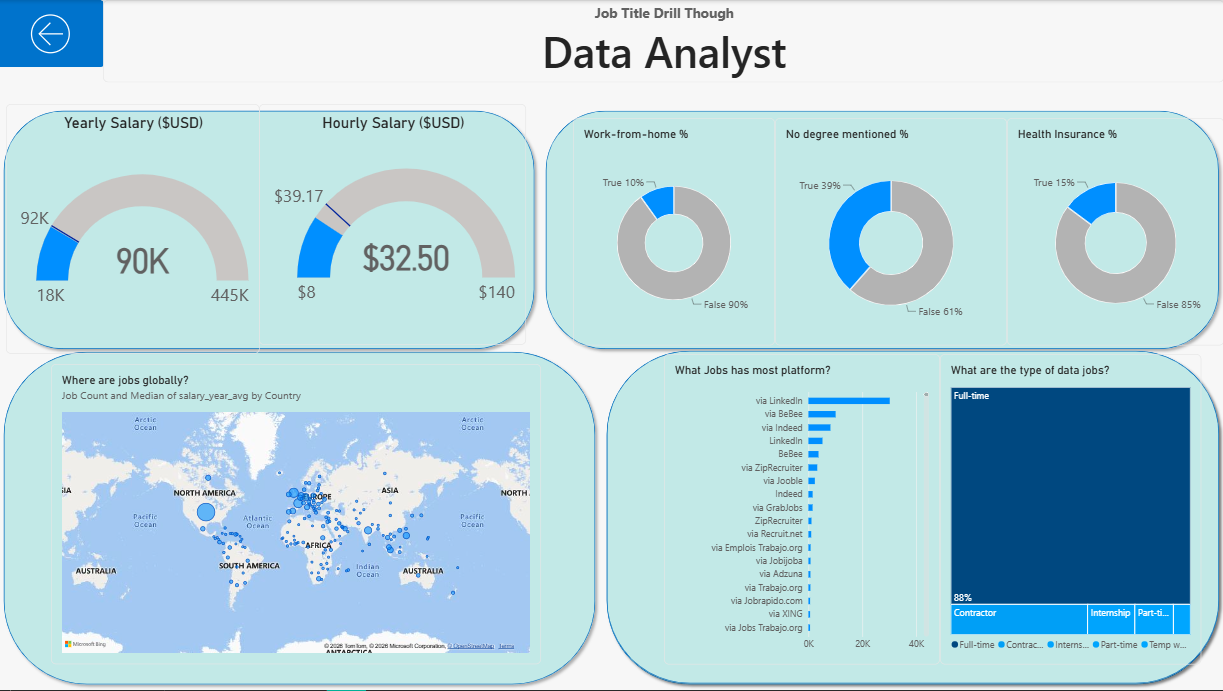

The dashboard page shown, as its layout file describes it:
{"tool":"powerbi","page":{"name":"Job Title Drill Through","canvas":[1920,1080],"ordinal":1},"visuals":[{"type":"group","id":"g1","title":"Background","box":[0,164.1,1920,915.4],"z":0},{"type":"cardVisual","fields":{"Data":["Min(job_postings_flat.job_title_short)1"]},"box":[165,0,1755,129.9],"z":1000},{"type":"actionButton","box":[0,0,165,105.3],"z":2000},{"type":"gauge","title":"Yearly Salary ($USD)","fields":{"MaxValue":["Max(job_postings_flat.salary_year_avg)2"],"MinValue":["Min(job_postings_flat.salary_year_avg)1"],"TargetValue":["Avg(job_postings_flat.salary_year_avg)3"],"Y":["Median(job_postings_flat.salary_year_avg)"]},"box":[12.3,163.2,396.6,391.4],"z":3000},{"type":"gauge","title":"Hourly Salary ($USD)","fields":{"MaxValue":["Max(job_postings_flat.salary_hour_avg)"],"MinValue":["Min(job_postings_flat.salary_hour_avg)"],"TargetValue":["Avg(job_postings_flat.salary_hour_avg)"],"Y":["Median(job_postings_flat.salary_hour_avg)"]},"box":[408.9,163.2,417.7,377.3],"z":4000},{"type":"donutChart","title":"Health Insurance %","fields":{"Category":["job_postings_flat.job_health_insurance"],"Y":["CountNonNull(job_postings_flat.job_work_from_home)"]},"box":[1579.5,184.3,340.5,356.3],"z":5000},{"type":"donutChart","title":"No degree mentioned %","fields":{"Category":["job_postings_flat.job_no_degree_mention"],"Y":["CountNonNull(job_postings_flat.job_work_from_home)"]},"box":[1216.2,184.3,363.3,356.3],"z":6000},{"type":"shape","box":[943.8,540.8,976.2,538.7],"z":7000},{"type":"donutChart","title":"Work-from-home %","fields":{"Category":["job_postings_flat.job_work_from_home"],"Y":["CountNonNull(job_postings_flat.job_work_from_home)"]},"box":[900.3,184.3,315.9,356.3],"z":8000},{"type":"map","title":"Where are jobs globally?","fields":{"Category":["job_postings_flat.job_country"],"Size":["CountNonNull(job_postings_flat.job_title_short)"]},"box":[82.5,570.4,766.9,470.3],"z":9000},{"type":"treemap","title":"What are the type of data jobs?","fields":{"Group":["job_postings_flat.job_schedule_type"],"Values":["CountNonNull(job_postings_flat.job_schedule_type)"]},"box":[1474.2,554.6,408.9,486.1],"z":10000},{"type":"barChart","title":"What Jobs has most platform?","fields":{"Category":["job_postings_flat.job_via"],"Y":["CountNonNull(job_postings_flat.job_via)"]},"box":[1042.5,554.6,431.7,486.1],"z":11000},{"type":"shape","box":[0,540.8,943.8,538.7],"z":12250,"group":"g1"},{"type":"shape","box":[0,164.1,848.6,390.9],"z":12500,"group":"g1"},{"type":"shape","box":[943.8,540.8,976.2,538.7],"z":13000,"group":"g1"},{"type":"shape","box":[848.6,164.1,1071.4,390.9],"z":14000,"group":"g1"}]}

Visuals, with their boxes in screenshot pixels (x1, y1, x2, y2), scaled from the page's 1920x1080 canvas onto the 1223x691 screenshot:
"Background" group: 0,105,1222,690
cardVisual - Min(job_postings_flat.job_title_short)1: 105,0,1222,83
actionButton: 0,0,105,67
"Yearly Salary ($USD)" gauge: 8,104,260,355
"Hourly Salary ($USD)" gauge: 260,104,527,346
"Health Insurance %" donutChart: 1006,118,1222,346
"No degree mentioned %" donutChart: 775,118,1006,346
shape: 601,346,1222,690
"Work-from-home %" donutChart: 573,118,775,346
"Where are jobs globally?" map: 53,365,541,666
"What are the type of data jobs?" treemap: 939,355,1199,666
"What Jobs has most platform?" barChart: 664,355,939,666
shape: 0,346,601,690
shape: 0,105,541,355
shape: 601,346,1222,690
shape: 541,105,1222,355
